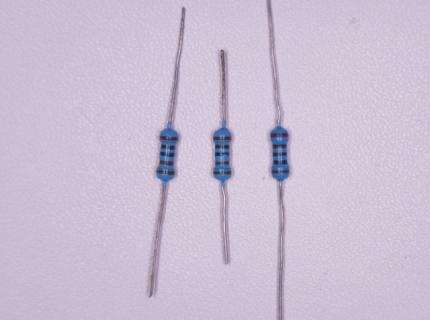Black band: (161, 144, 176, 150), (215, 144, 230, 150), (160, 152, 176, 157), (215, 152, 230, 157), (273, 152, 287, 157), (273, 160, 287, 165)
Brown band: (156, 169, 175, 176), (159, 160, 174, 167), (213, 136, 232, 141), (270, 133, 289, 138), (160, 136, 178, 141), (215, 160, 230, 166), (272, 144, 288, 149), (213, 171, 231, 175), (272, 170, 289, 174)
